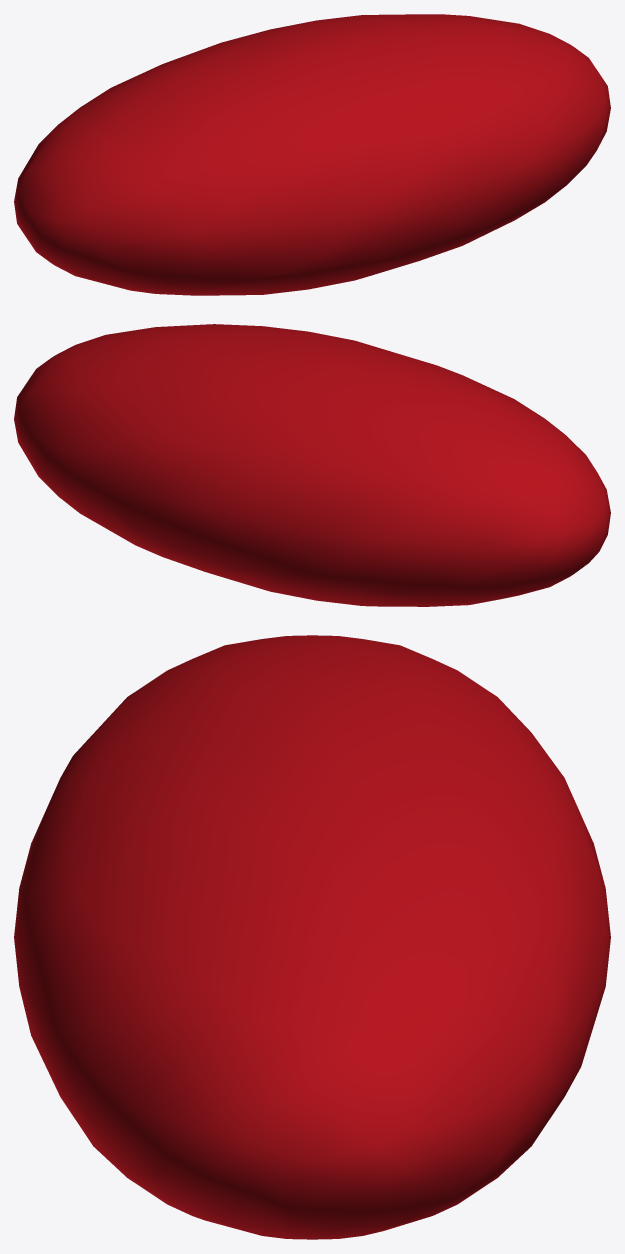
The model's file is PimentaSemente.fbx.
3 renders of one model, top to bottom at view 1: azimuth 30°, elevation 25°; view 2: azimuth 150°, elevation 25°; view 3: azimuth 270°, elevation 25°, orthographic. The views are drawn at different scales.
Parts seen in each view (by area): view 1: PimentaSemente; view 2: PimentaSemente; view 3: PimentaSemente.
Boxes of the visible parts, x1,y1,x2,y2 form: PimentaSemente: (14,14,610,295); PimentaSemente: (14,324,610,606); PimentaSemente: (14,635,610,1239).
Size of the model in its own units: 1.95 by 0.7053 by 1.03.
